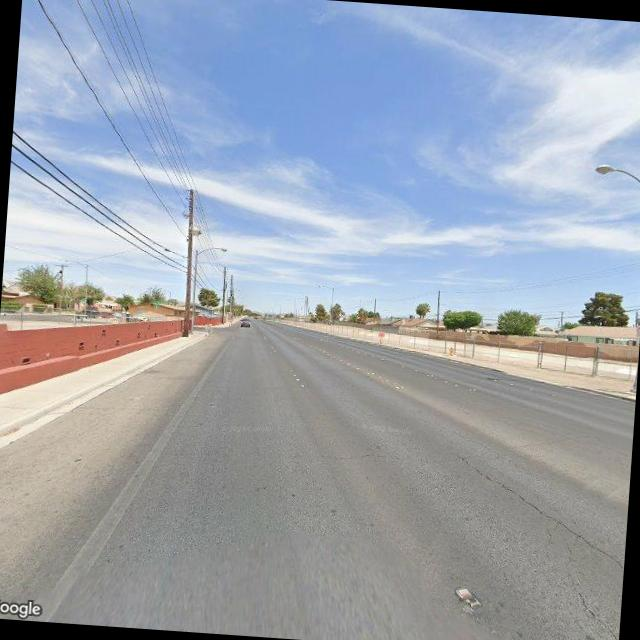pothole: (446, 452, 630, 574), (561, 578, 620, 640)
